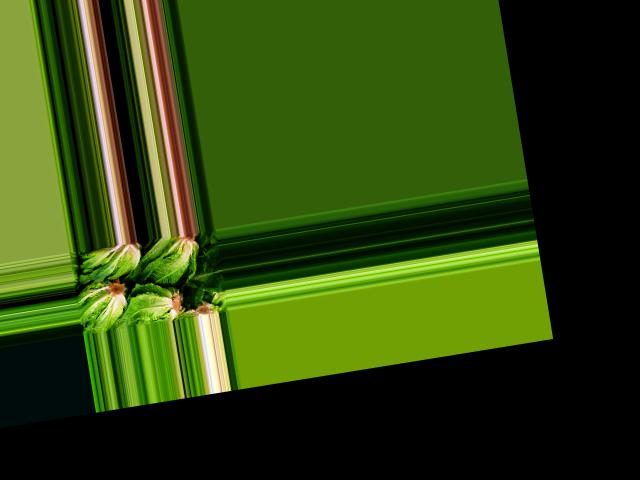lettuce: (186, 256, 226, 296)
